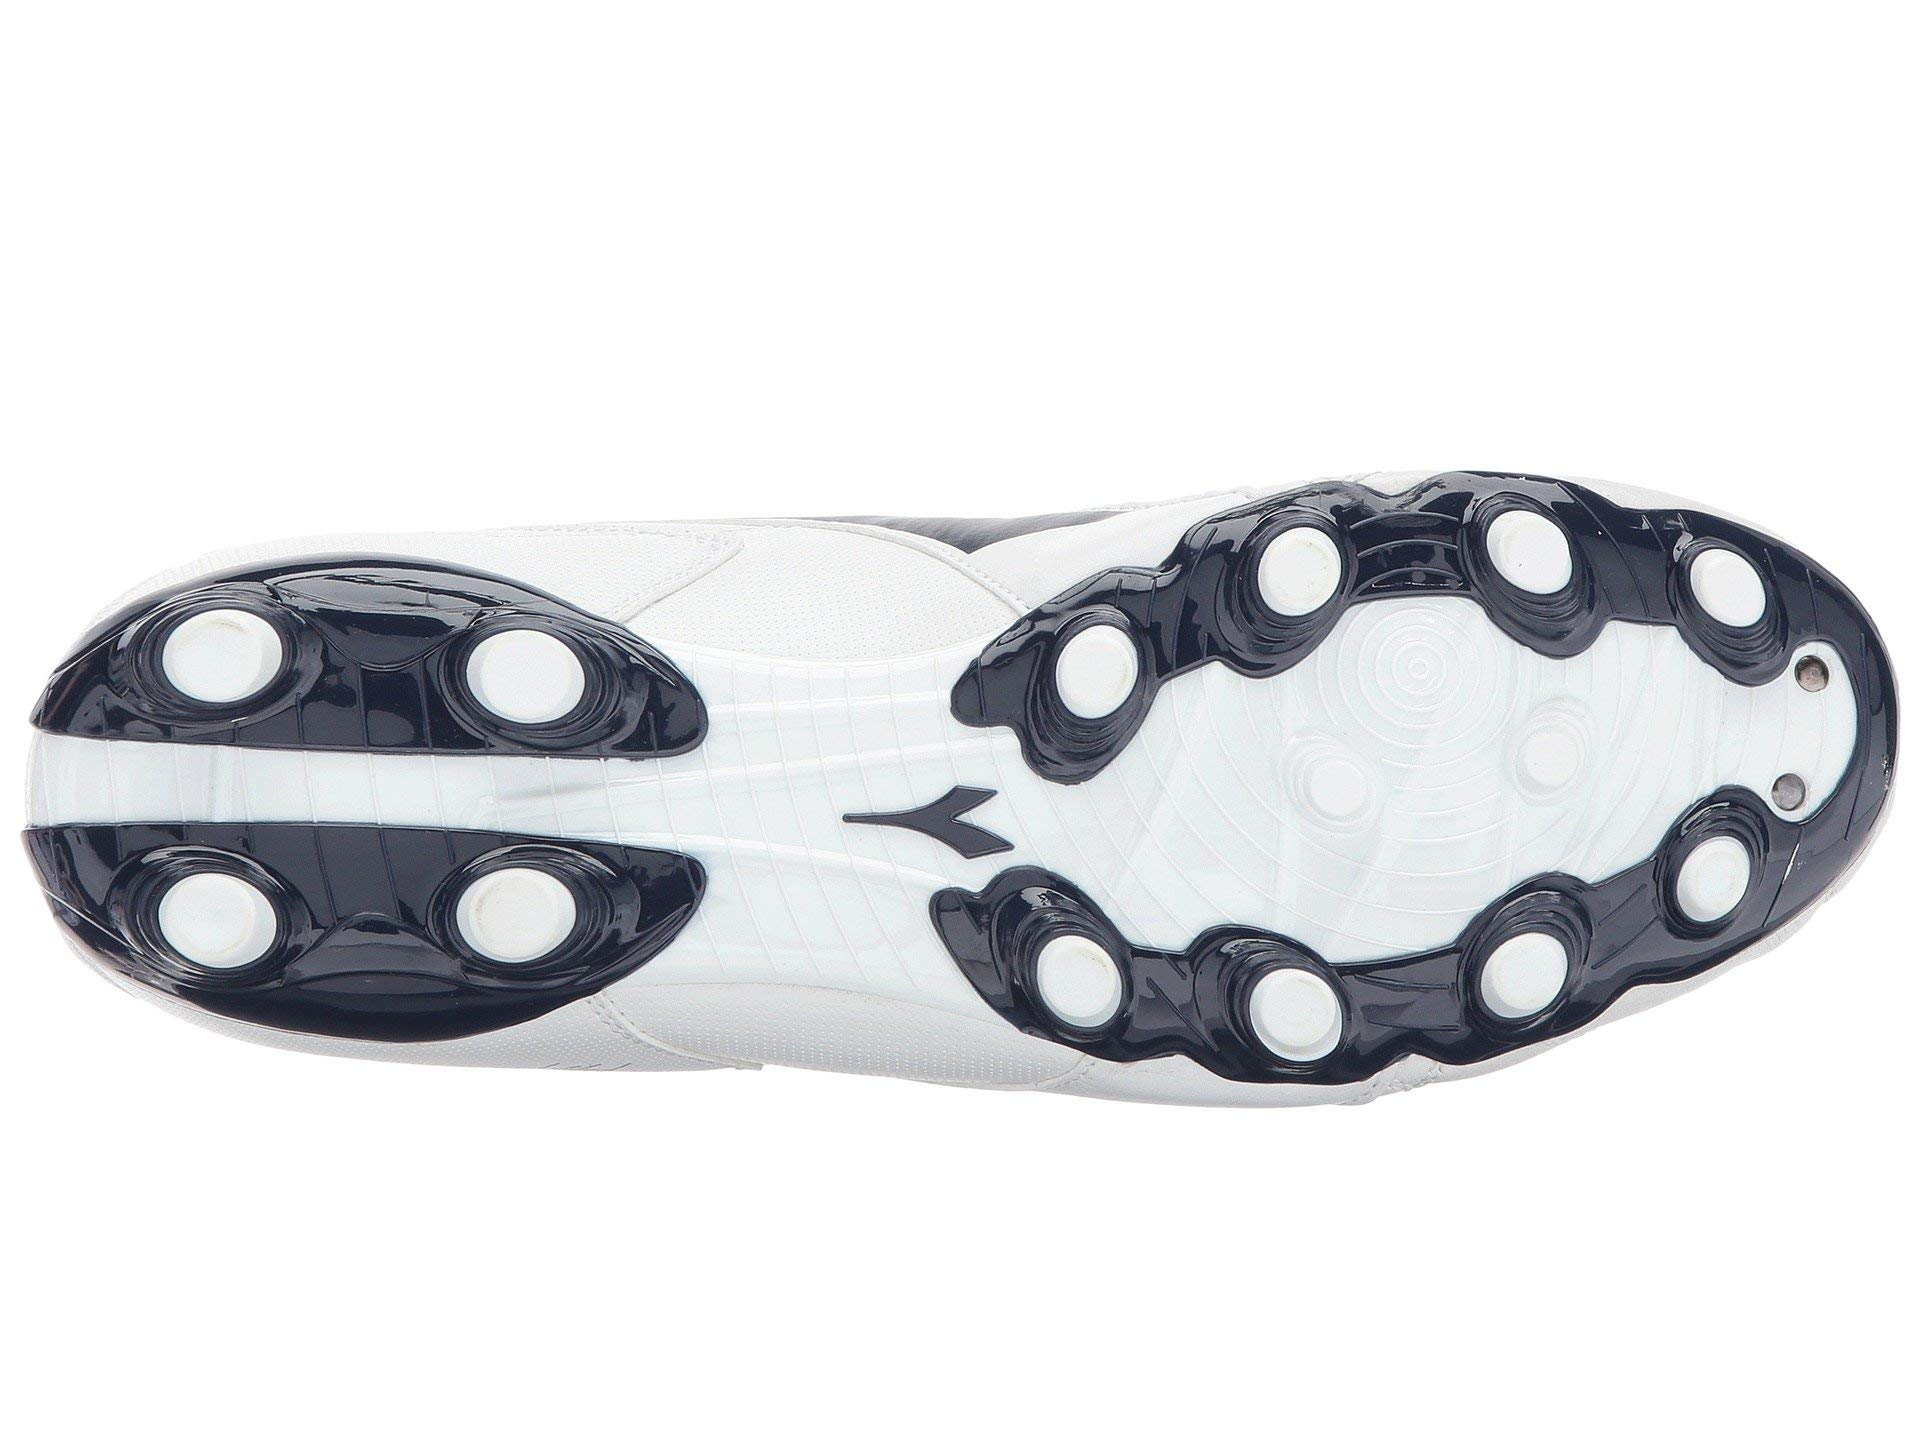circle: (1763, 641, 1857, 811), (457, 625, 609, 725), (1036, 929, 1132, 1057), (160, 871, 277, 968), (1497, 706, 1603, 808), (1238, 520, 1346, 616), (1246, 974, 1355, 1066), (1463, 510, 1575, 599), (1277, 753, 1383, 846), (1037, 632, 1154, 712), (464, 874, 574, 957), (1657, 830, 1758, 920), (1474, 930, 1562, 1033), (1671, 538, 1769, 628), (1379, 635, 1466, 734)
exclude: (169, 614, 286, 700)
line: (1277, 753, 1383, 846)
quad: (23, 718, 732, 846)
